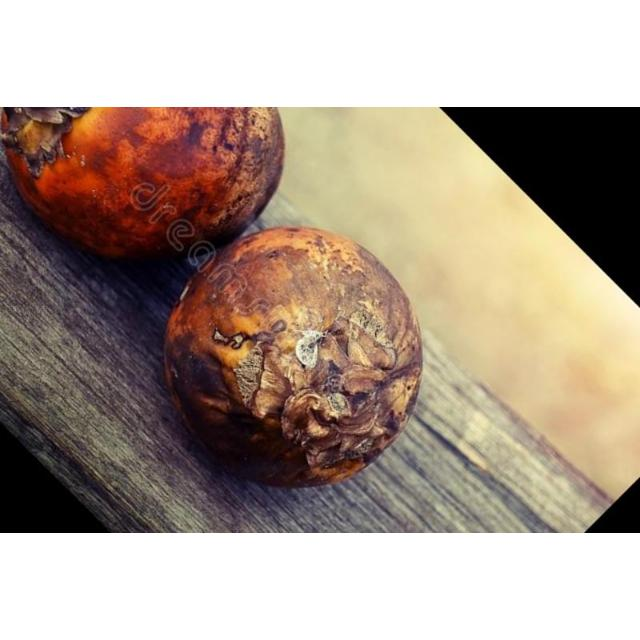damaged: (165, 227, 422, 486), (0, 107, 283, 257)
